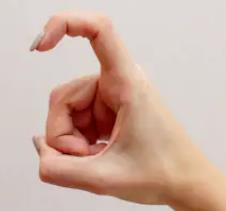anticlockwise: (26, 9, 182, 206)
